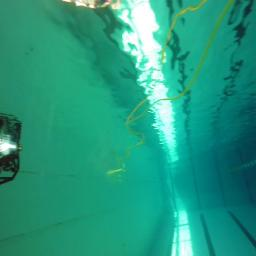Side: (0, 138, 22, 186)
